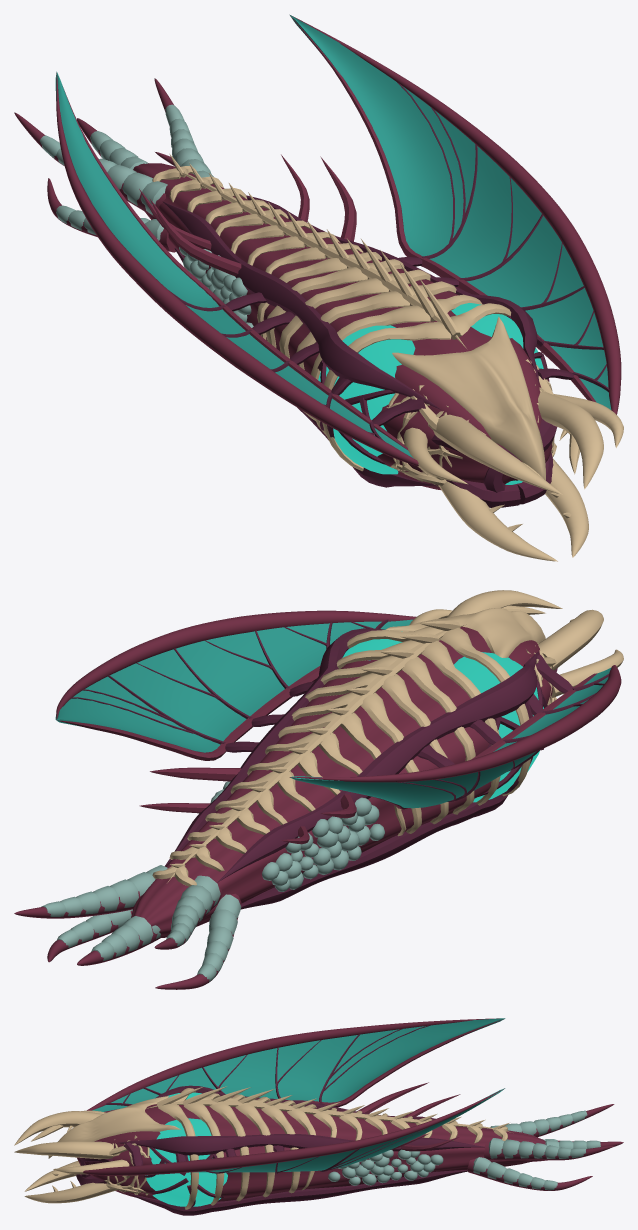
File: unknown_contact_v2.glb
3 renders of one model, top to bottom at view 1: azimuth 30°, elevation 25°; view 2: azimuth 150°, elevation 25°; view 3: azimuth 270°, elevation 25°, orthographic. The views are drawn at different scales.
Visible parts, largest first — view 1: unknown_contact_v2; view 2: unknown_contact_v2; view 3: unknown_contact_v2.
Part boxes in pixels (left/top/right/bottom): unknown_contact_v2: left=14, top=14, right=623, bottom=561; unknown_contact_v2: left=14, top=590, right=623, bottom=989; unknown_contact_v2: left=14, top=1018, right=623, bottom=1215.
Size of the model in its own units: 5.57 by 3.15 by 12.
